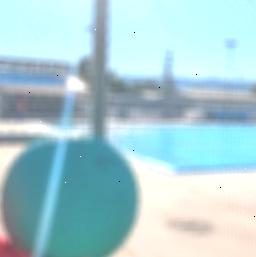algae: (0, 135, 140, 257)
